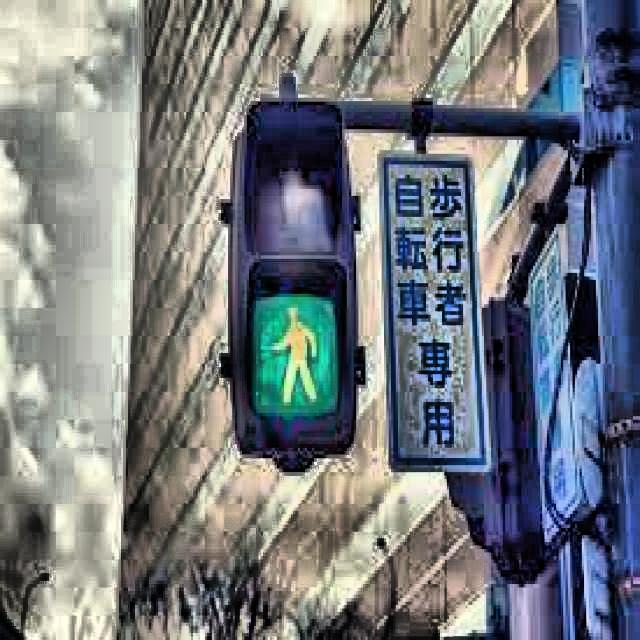semaforo pedestre: (150, 64, 453, 498)
